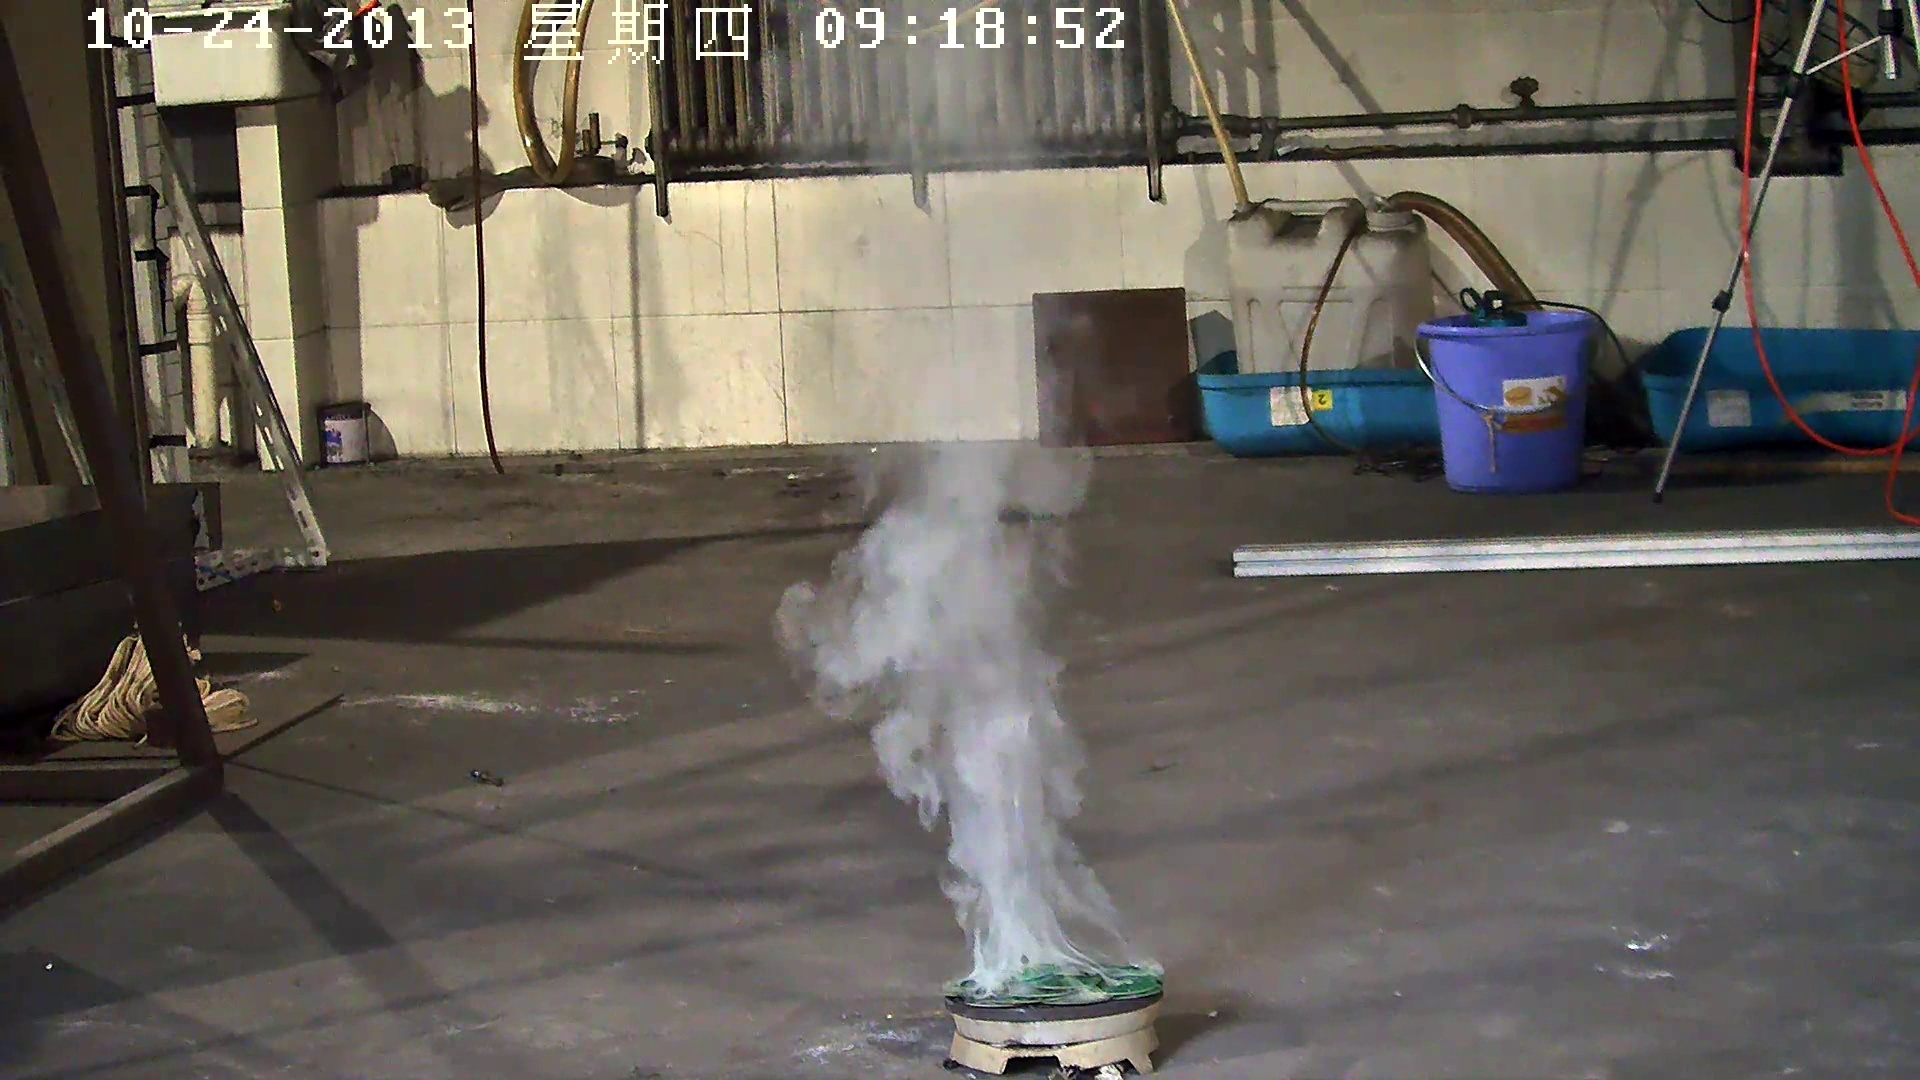smoke: (740, 401, 1185, 992)
